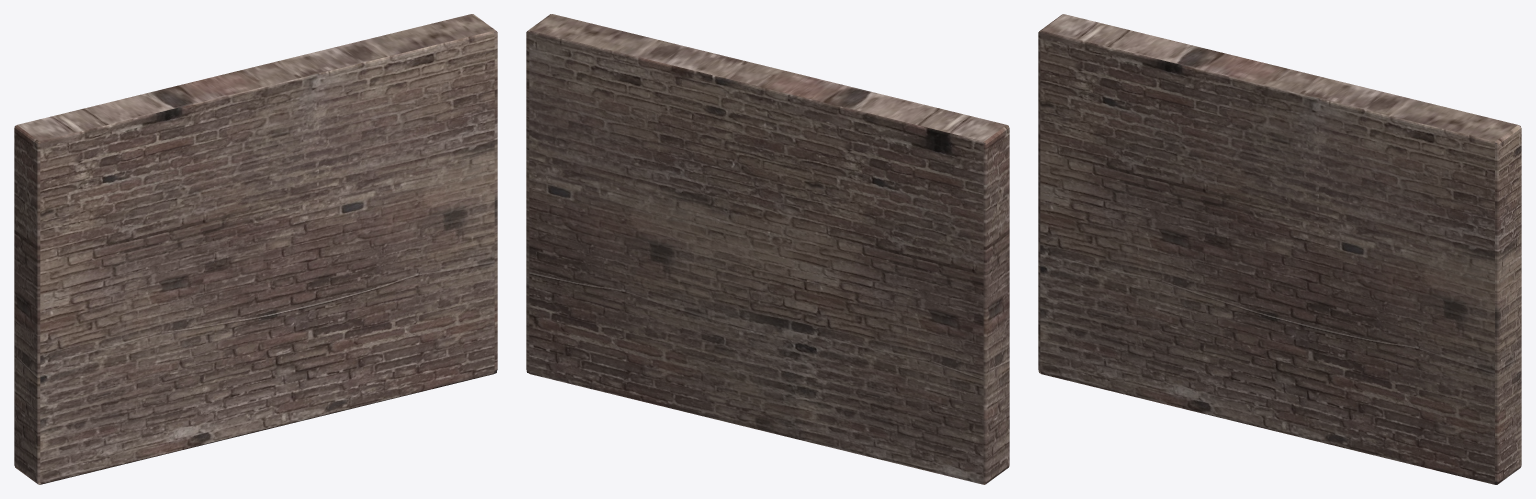
File: wall1.glb
3 views of the same model, side by side, from view 1: azimuth 30°, elevation 25°; view 2: azimuth 150°, elevation 25°; view 3: azimuth 330°, elevation 25° (orthographic).
Parts seen in each view (by area): view 1: Cube; view 2: Cube; view 3: Cube.
Part boxes in pixels (bbox=[...]): Cube: bbox=[14, 14, 497, 484]; Cube: bbox=[526, 14, 1009, 484]; Cube: bbox=[1038, 14, 1521, 484].
Bounding box in the file's own units: 20.68 × 14.74 × 1.86.
1 material, 1 textured.
